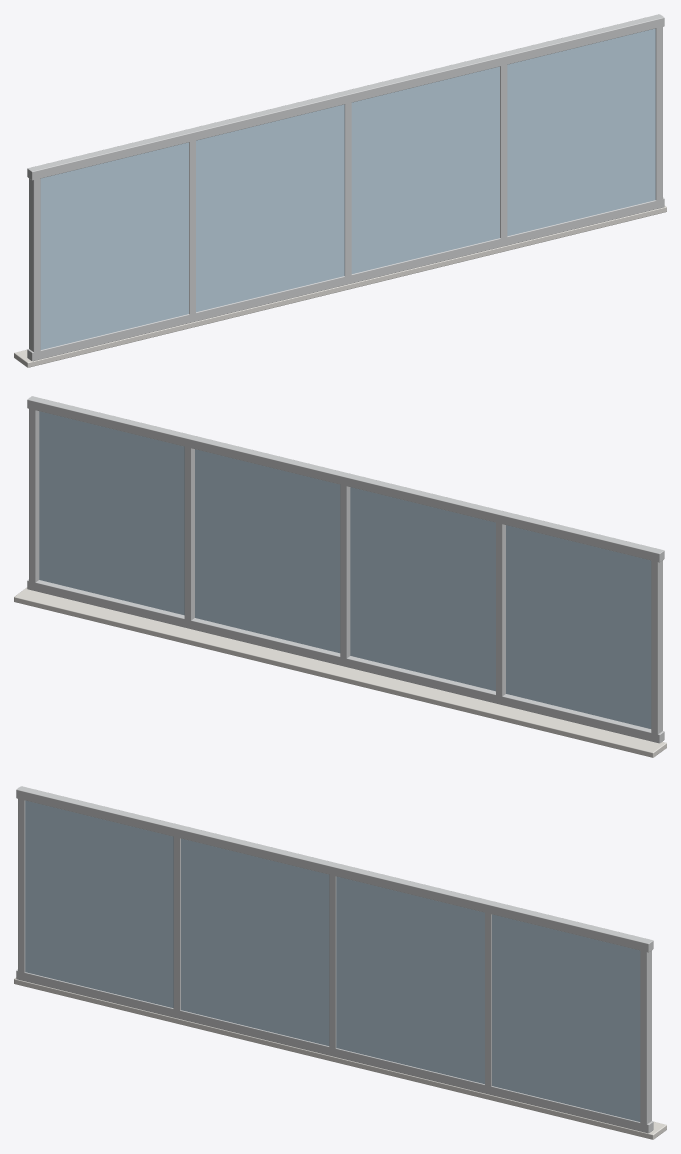
The model's file is aula.ventana.fbx.
3 views of the same model, one above another, from view 1: azimuth 30°, elevation 25°; view 2: azimuth 150°, elevation 25°; view 3: azimuth 330°, elevation 25° (orthographic).
Visible parts, largest first — view 1: Vidrio, Marco horizontal.001, Marco horizontal, Alfeizar, Montante.004, Montante, Montante.001, Montante.002, Montante.003; view 2: Vidrio, Alfeizar, Marco horizontal.001, Marco horizontal, Montante.004, Montante.002, Montante, Montante.001, Montante.003; view 3: Vidrio, Marco horizontal.001, Marco horizontal, Alfeizar, Montante, Montante.003, Montante.004, Montante.002, Montante.001.
Part boxes in pixels (bbox=[...]): Vidrio: bbox=[40, 28, 655, 349]; Marco horizontal.001: bbox=[27, 14, 664, 180]; Marco horizontal: bbox=[27, 197, 664, 361]; Alfeizar: bbox=[14, 205, 666, 367]; Montante.004: bbox=[29, 171, 40, 357]; Montante: bbox=[655, 19, 662, 207]; Montante.001: bbox=[500, 58, 507, 245]; Montante.002: bbox=[344, 96, 351, 282]; Montante.003: bbox=[189, 134, 195, 320]; Vidrio: bbox=[39, 411, 651, 728]; Alfeizar: bbox=[14, 587, 666, 757]; Marco horizontal.001: bbox=[27, 396, 664, 562]; Marco horizontal: bbox=[27, 579, 664, 743]; Montante.004: bbox=[651, 553, 662, 741]; Montante.002: bbox=[340, 478, 350, 665]; Montante: bbox=[29, 401, 39, 588]; Montante.001: bbox=[184, 439, 194, 626]; Montante.003: bbox=[496, 515, 505, 703]; Vidrio: bbox=[25, 800, 640, 1121]; Marco horizontal.001: bbox=[16, 786, 653, 952]; Marco horizontal: bbox=[16, 969, 653, 1133]; Alfeizar: bbox=[14, 977, 666, 1139]; Montante: bbox=[640, 944, 651, 1124]; Montante.003: bbox=[173, 830, 180, 1017]; Montante.004: bbox=[18, 792, 25, 975]; Montante.002: bbox=[329, 874, 336, 1048]; Montante.001: bbox=[485, 907, 491, 1092].
Bounding box in the file's own units: 3.7 × 1.09 × 0.15.
